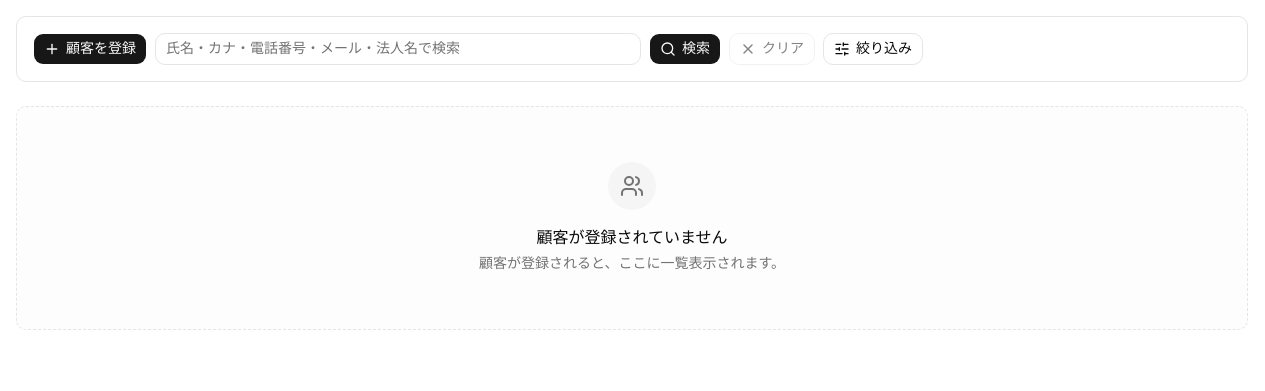
CustomerListPageClient › 検索キーワードの前後の空白を除去してEnterキーで検索できる
The image size is (1265, 391).
Expected: the text "顧客が登録されていません" is shown, [536,226,728,250]
Type "  山田  " into the search field named "顧客検索キーワード" at (398, 49), box [155,33,641,65]
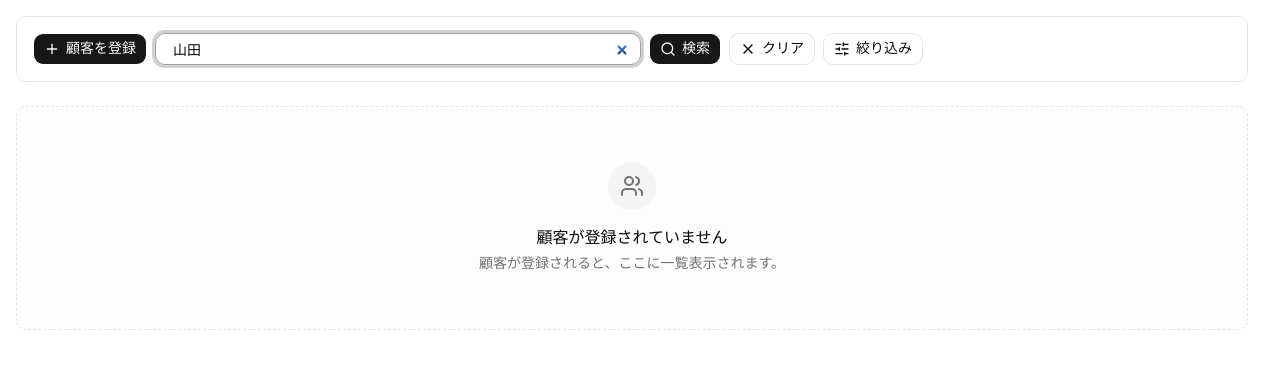
# 検索ボタンではなくEnterキーで検索
Press Enter
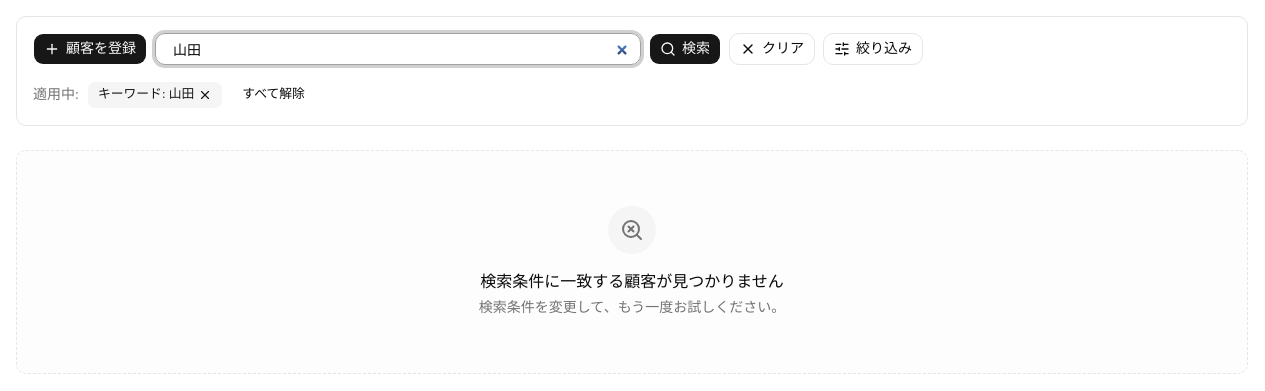
Expected: the text "検索条件に一致する顧客が見つかりません" is shown, [480,270,784,294]
